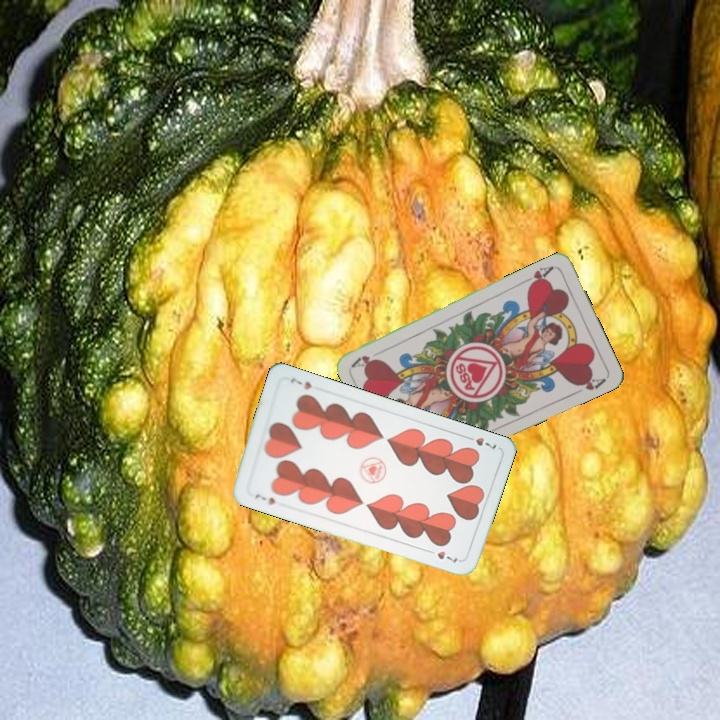H7: (461, 432, 499, 454), (251, 489, 278, 508)
HA: (519, 262, 557, 290)
